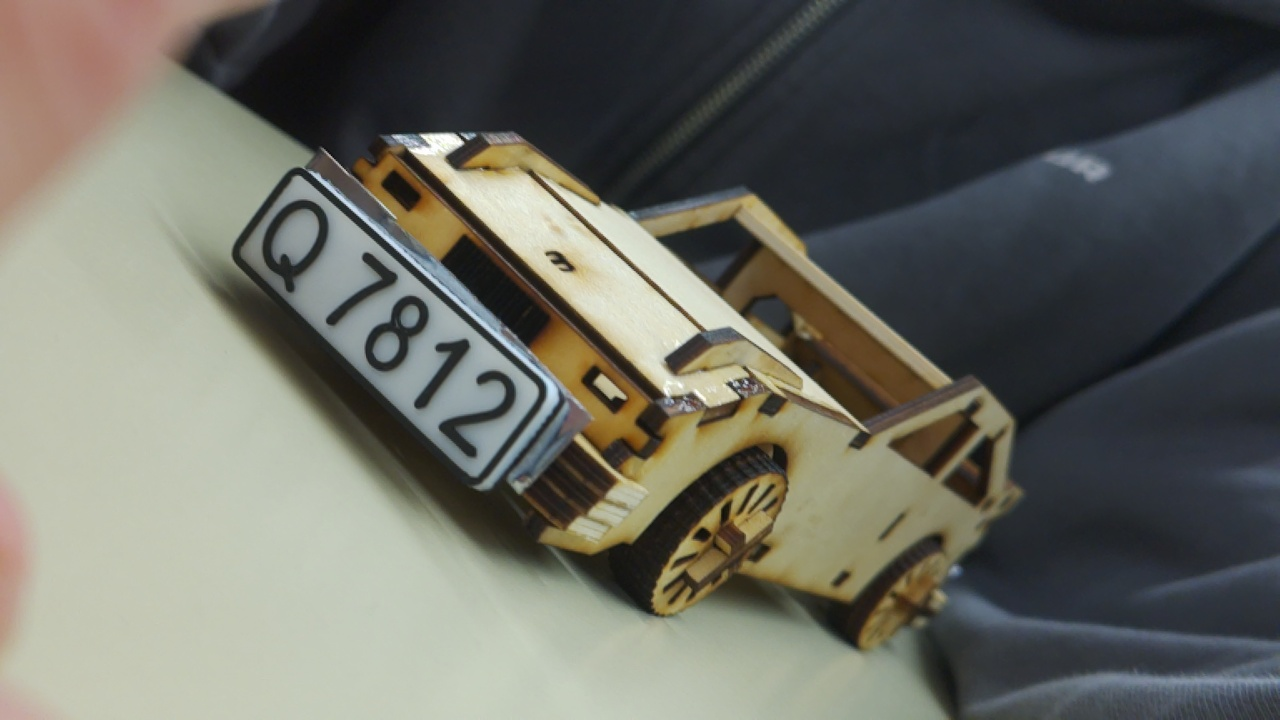license_plate: (222, 153, 570, 508)
